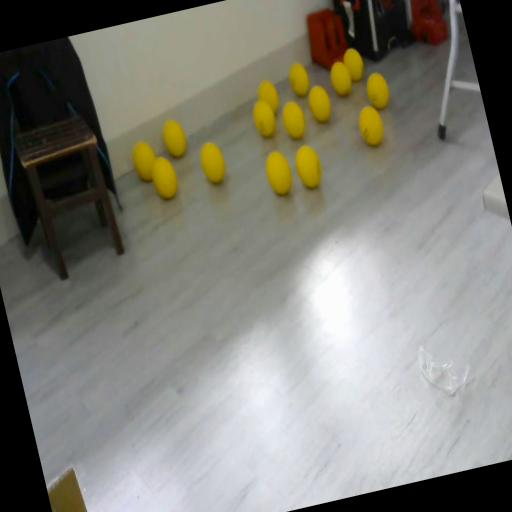FUEL: (261, 146, 296, 198), (291, 142, 326, 192), (148, 152, 182, 201), (196, 138, 230, 186), (354, 102, 388, 150), (278, 98, 310, 142), (158, 116, 190, 160), (130, 138, 160, 184), (305, 82, 336, 125), (364, 70, 392, 112), (340, 44, 368, 83), (255, 77, 282, 117), (328, 58, 354, 98), (286, 60, 312, 98)
